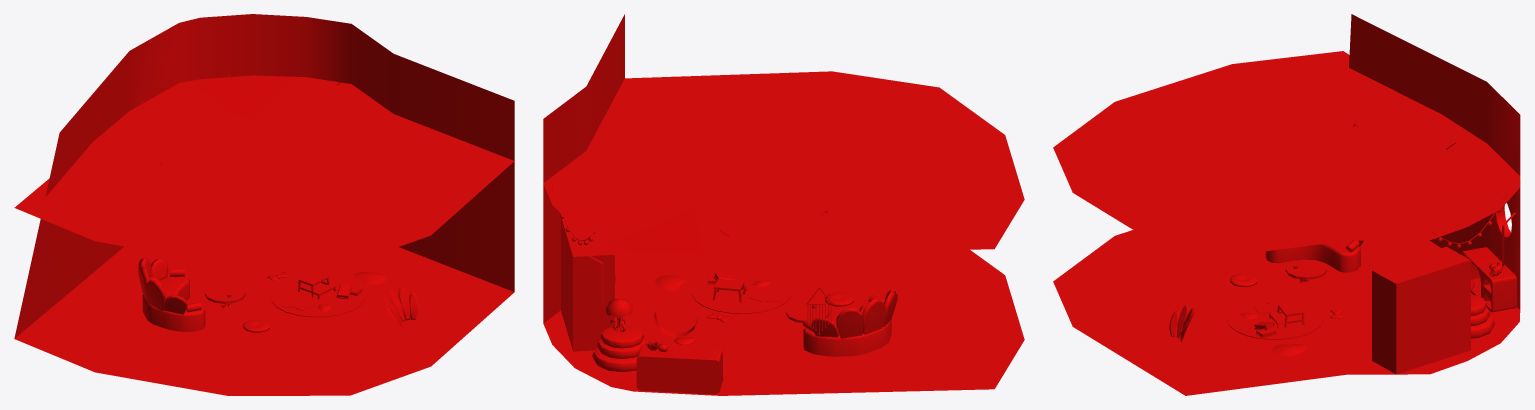
Rendered from DressUp_Girl_01.glb.
3 renders of one model, left to right at view 1: azimuth 30°, elevation 25°; view 2: azimuth 150°, elevation 25°; view 3: azimuth 270°, elevation 25°, orthographic. The views are drawn at different scales.
Visible parts, largest first — view 1: Walls2, Ceiling, Items; view 2: Ceiling, Walls2, Items; view 3: Ceiling, Walls2, Items.
Boxes of the visible parts, left/top/right/bottom form: Walls2: left=14, top=14, right=514, bottom=395; Ceiling: left=14, top=75, right=514, bottom=264; Items: left=138, top=74, right=418, bottom=332; Ceiling: left=543, top=71, right=1024, bottom=255; Walls2: left=543, top=14, right=1024, bottom=395; Items: left=552, top=182, right=897, bottom=394; Ceiling: left=1053, top=51, right=1520, bottom=261; Walls2: left=1053, top=14, right=1520, bottom=395; Items: left=1169, top=123, right=1516, bottom=374.
Bounding box in the file's own units: 11.79 × 5.14 × 11.05.
